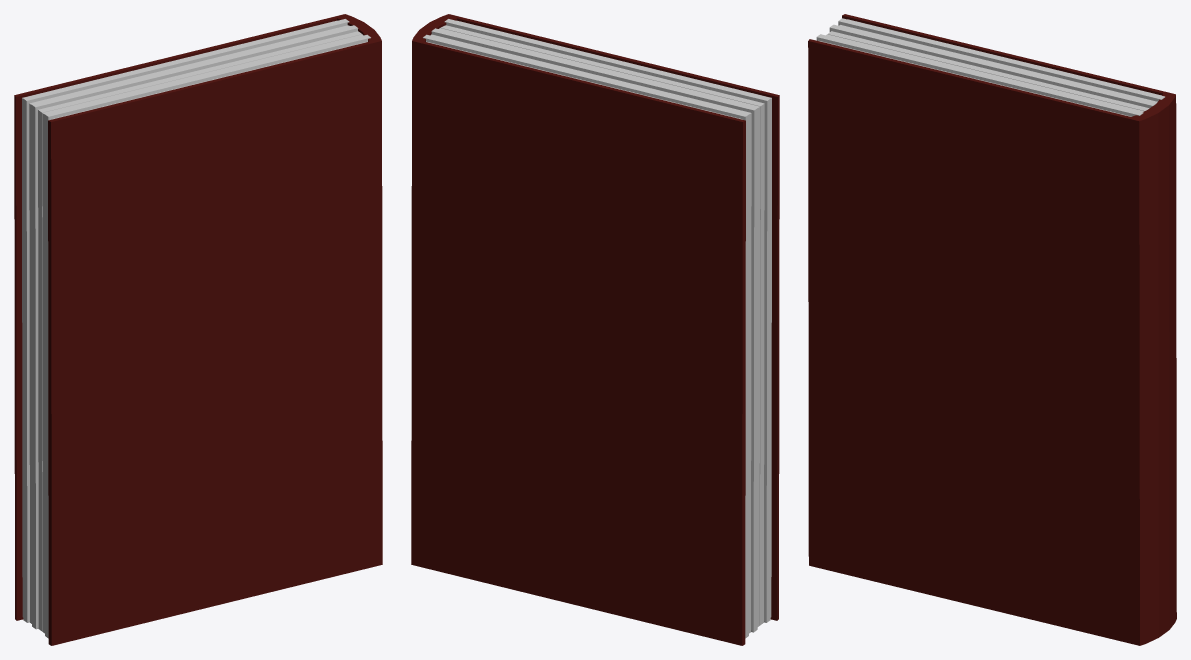
Rendered from Book.fbx.
3 renders of one model, left to right at view 1: azimuth 30°, elevation 25°; view 2: azimuth 150°, elevation 25°; view 3: azimuth 330°, elevation 25°, orthographic.
Parts seen in each view (by area): view 1: Book; view 2: Book; view 3: Book.
Boxes of the visible parts, bbox=[...] form: Book: bbox=[14, 14, 382, 645]; Book: bbox=[411, 14, 779, 645]; Book: bbox=[808, 14, 1176, 645].
Bounding box in the file's own units: 0.0341 × 0.2687 × 0.1811.
